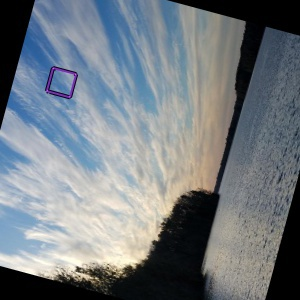square: (43, 64, 80, 100)
